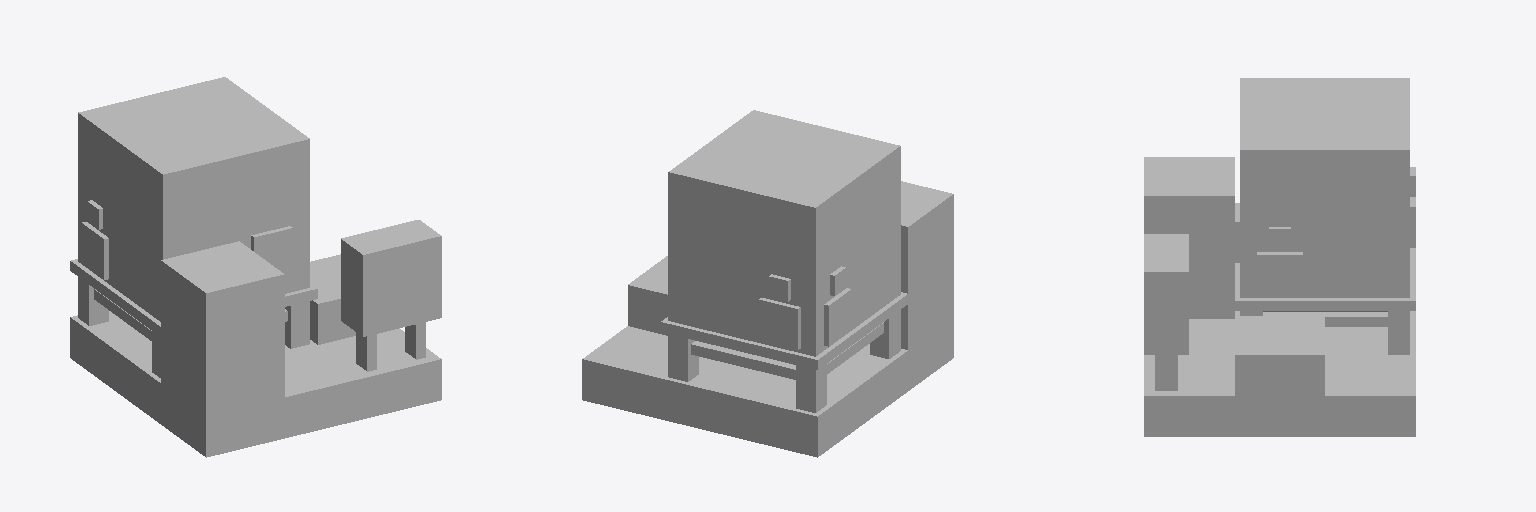
File: fermenter.obj
3 views of the same model, side by side, from view 1: azimuth 30°, elevation 25°; view 2: azimuth 150°, elevation 25°; view 3: azimuth 270°, elevation 25° (orthographic).
Parts seen in each view (by area): view 1: base; view 2: base; view 3: base.
Part boxes in pixels (x1,y1,x2,y2): base: (70,77,441,457); base: (582,110,953,457); base: (1144,78,1415,436).
Size of the model in its own units: 3 by 3 by 3.